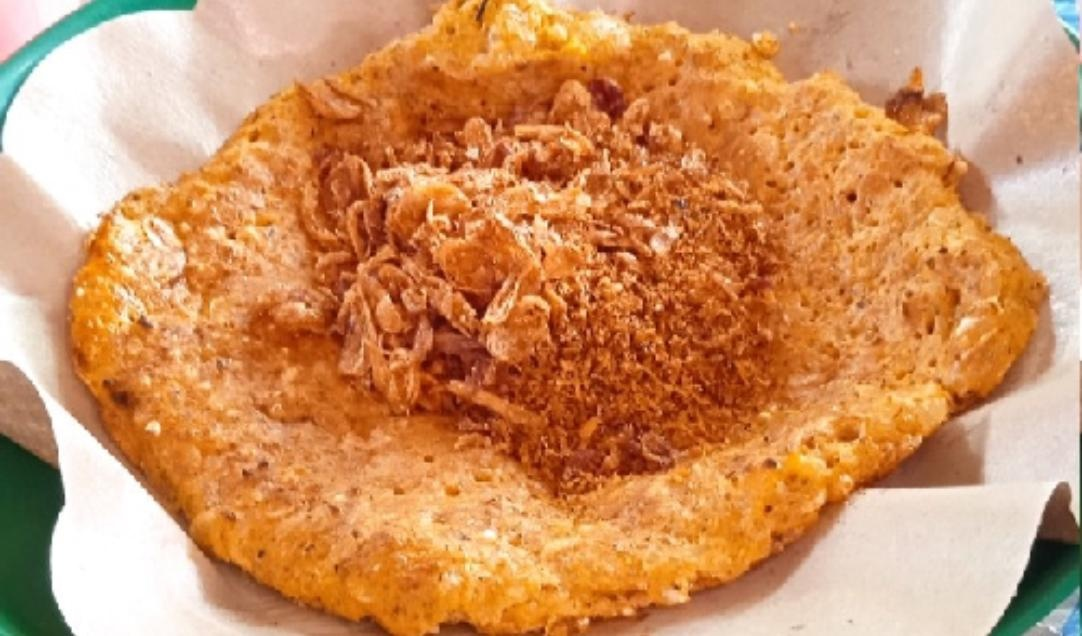kerak_telor: (77, 7, 1034, 618)
